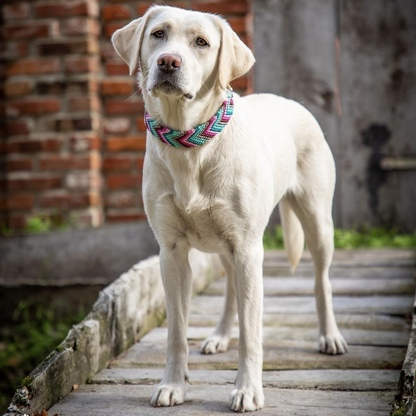labrado: (108, 1, 351, 416)
